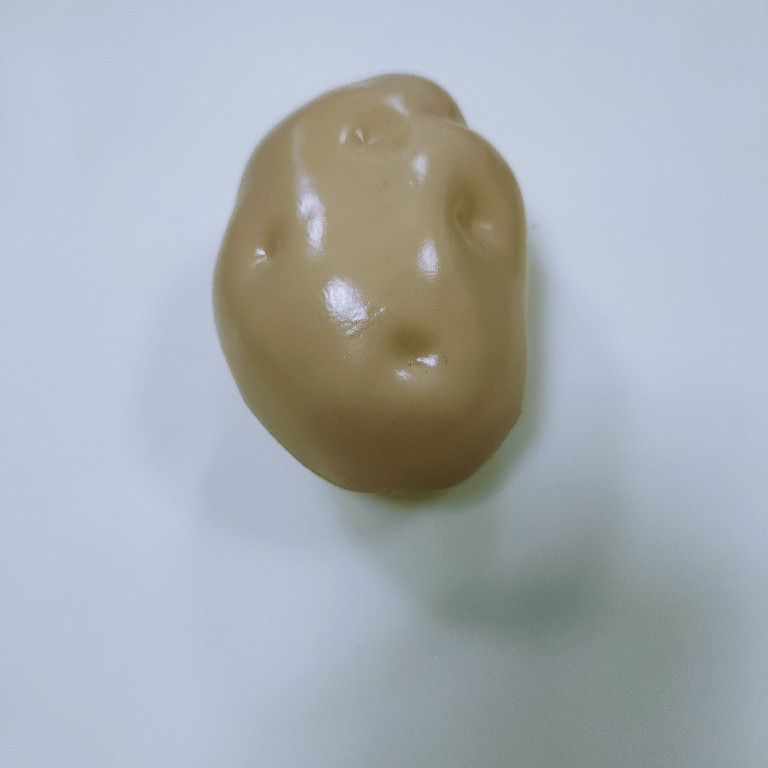fruit_potato: (208, 68, 537, 505)
